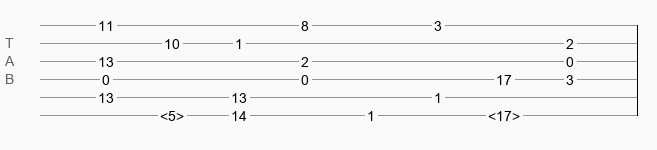0: (102, 72, 110, 82), (301, 72, 309, 82), (566, 54, 574, 64)
1: (235, 36, 243, 46), (367, 108, 375, 118), (434, 90, 442, 100)
10: (164, 36, 180, 46)
11: (98, 18, 114, 28)
13: (98, 54, 114, 64), (98, 90, 114, 100), (231, 90, 247, 100)
14: (231, 108, 247, 118)
17: (496, 72, 512, 82)
2: (301, 54, 309, 64), (566, 36, 574, 46)
3: (434, 18, 442, 28), (566, 72, 574, 82)
8: (301, 18, 309, 28)
harmonic: (488, 108, 520, 118), (160, 108, 184, 118)
